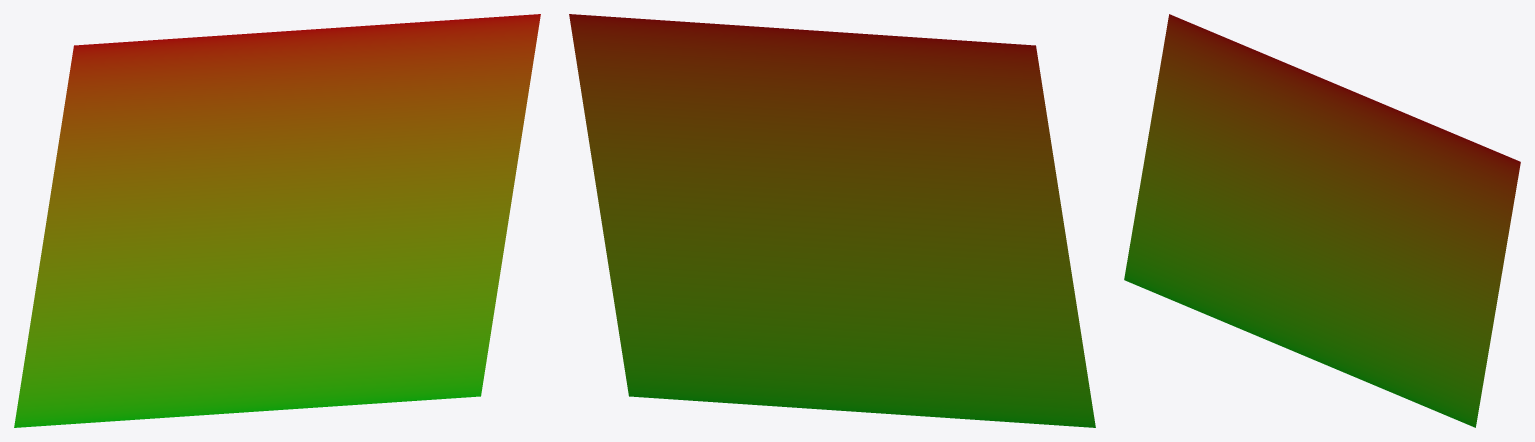
The model's file is Arrowhead Plant_LOD3_Var4_sjsmD.fbx.
3 views of the same model, side by side, from view 1: azimuth 30°, elevation 25°; view 2: azimuth 150°, elevation 25°; view 3: azimuth 330°, elevation 25° (orthographic). The views are drawn at different scales.
Visible parts, largest first — view 1: _9823_Var4_LOD3; view 2: _9823_Var4_LOD3; view 3: _9823_Var4_LOD3.
Part boxes in pixels (bbox=[...]): _9823_Var4_LOD3: bbox=[14, 14, 540, 427]; _9823_Var4_LOD3: bbox=[569, 14, 1095, 427]; _9823_Var4_LOD3: bbox=[1124, 14, 1520, 427].
Bounding box in the file's own units: 79.96 × 65.3 × 3.34e-06.
